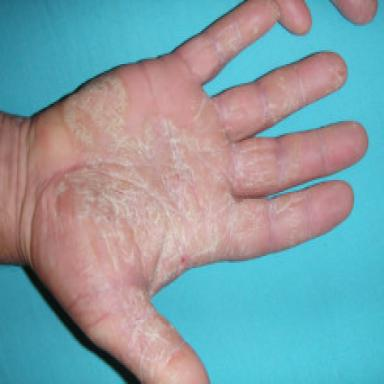eczema: (47, 73, 306, 374), (215, 26, 246, 65), (321, 55, 347, 97), (270, 1, 280, 22)
